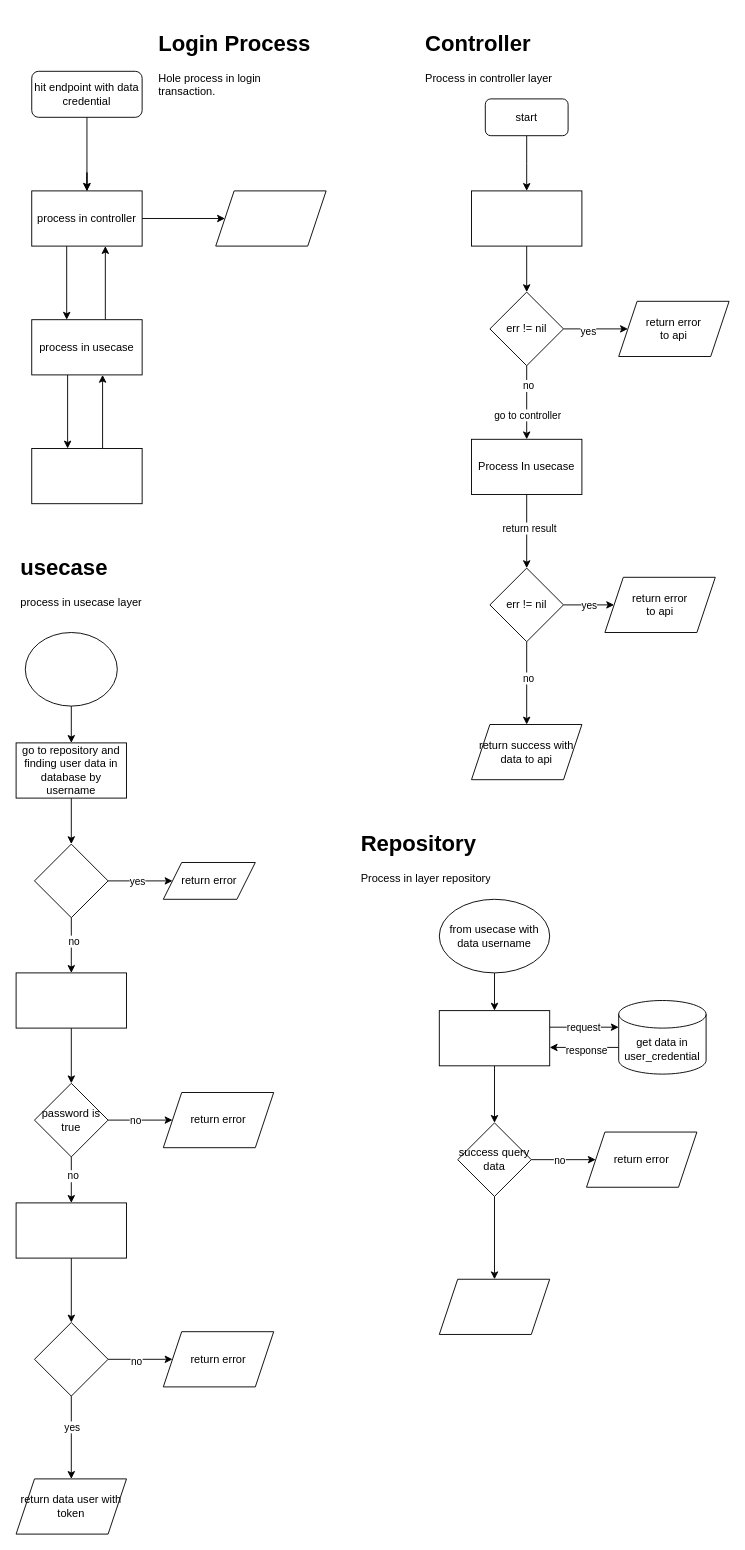
Image size: 745x1550. Some labels were removed from this diagram. Here are the shapes that lost their labels. From the top down, the centre of each, then its label:
the point at 270,218: return api
the point at 526,218: Accepting data in body request
the point at 86,476: get data from database
the point at 70,669: start from controller with data from request input
the point at 71,880: error/data not exist
the point at 70,1000: verify password is true of not
the point at 494,1038: do queryRow to table user_credential find with name
the point at 70,1230: Generating JWT Token
the point at 494,1306: return data user_redential
the point at 71,1359: success generating token
